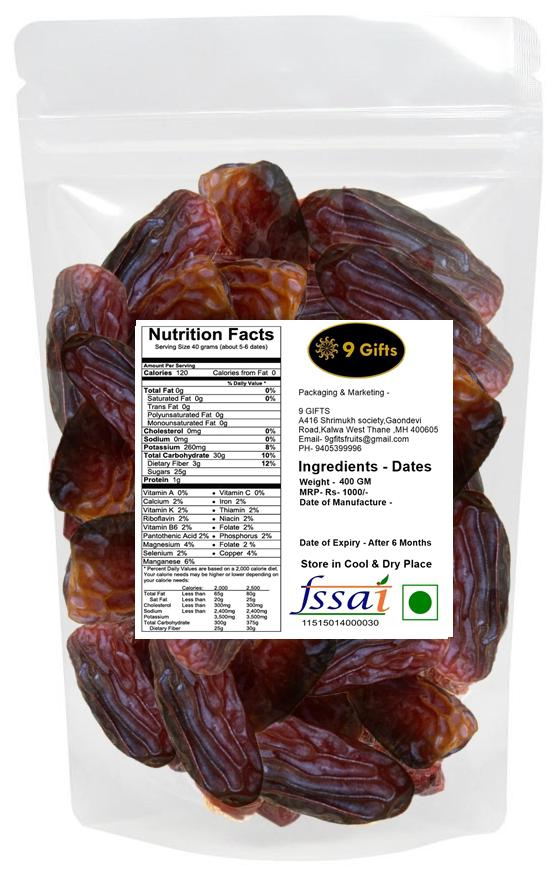fssai: (287, 573, 394, 617)
